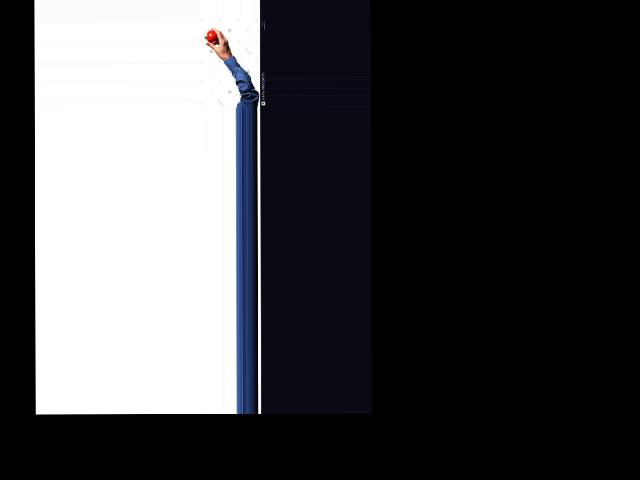tomato: (207, 30, 217, 42)
